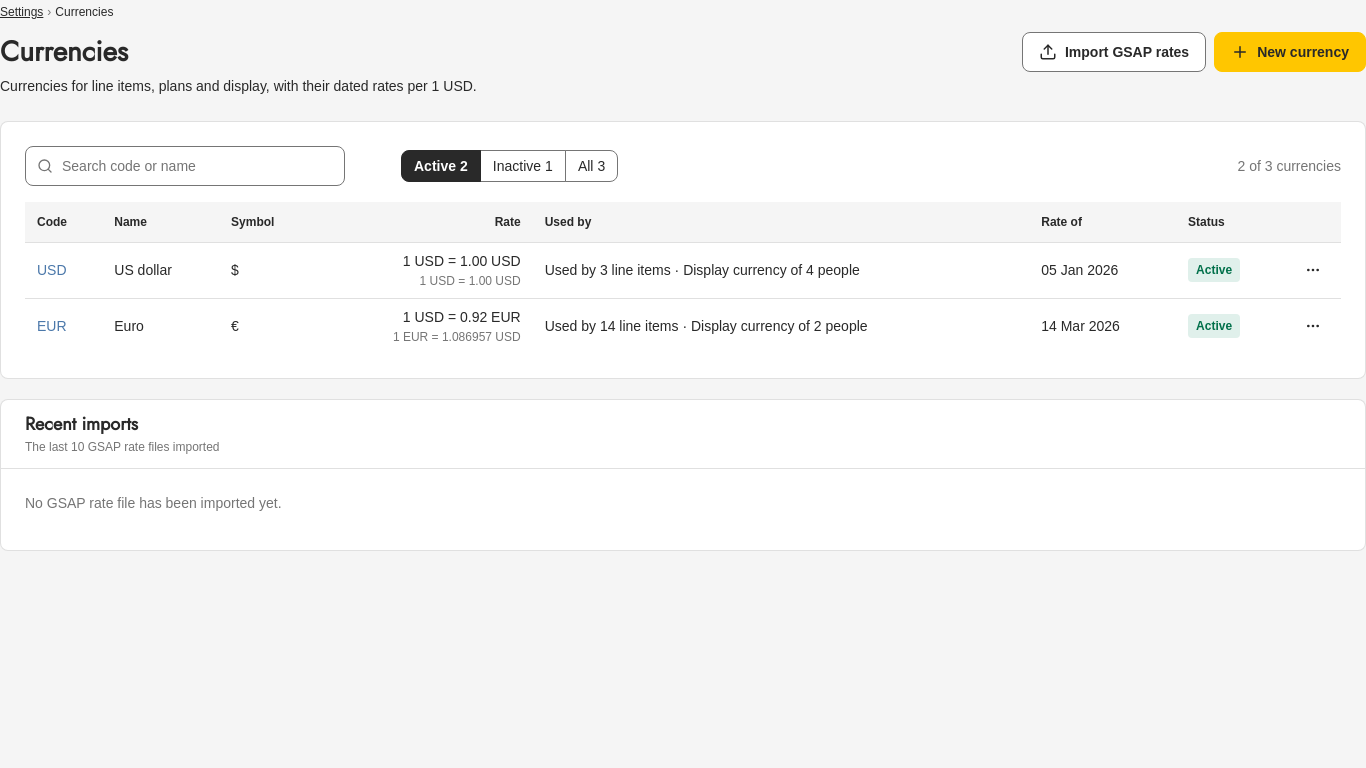
CurrenciesPage: create and edit (US4 scenarios 1, 3, 4, 5) › keeps the typed values after a conflict and names who saved first (FR-007)
Click the button named "Actions for EUR". click: click(1313, 326)
box: top-left (1297, 310), bottom-right (1329, 342)
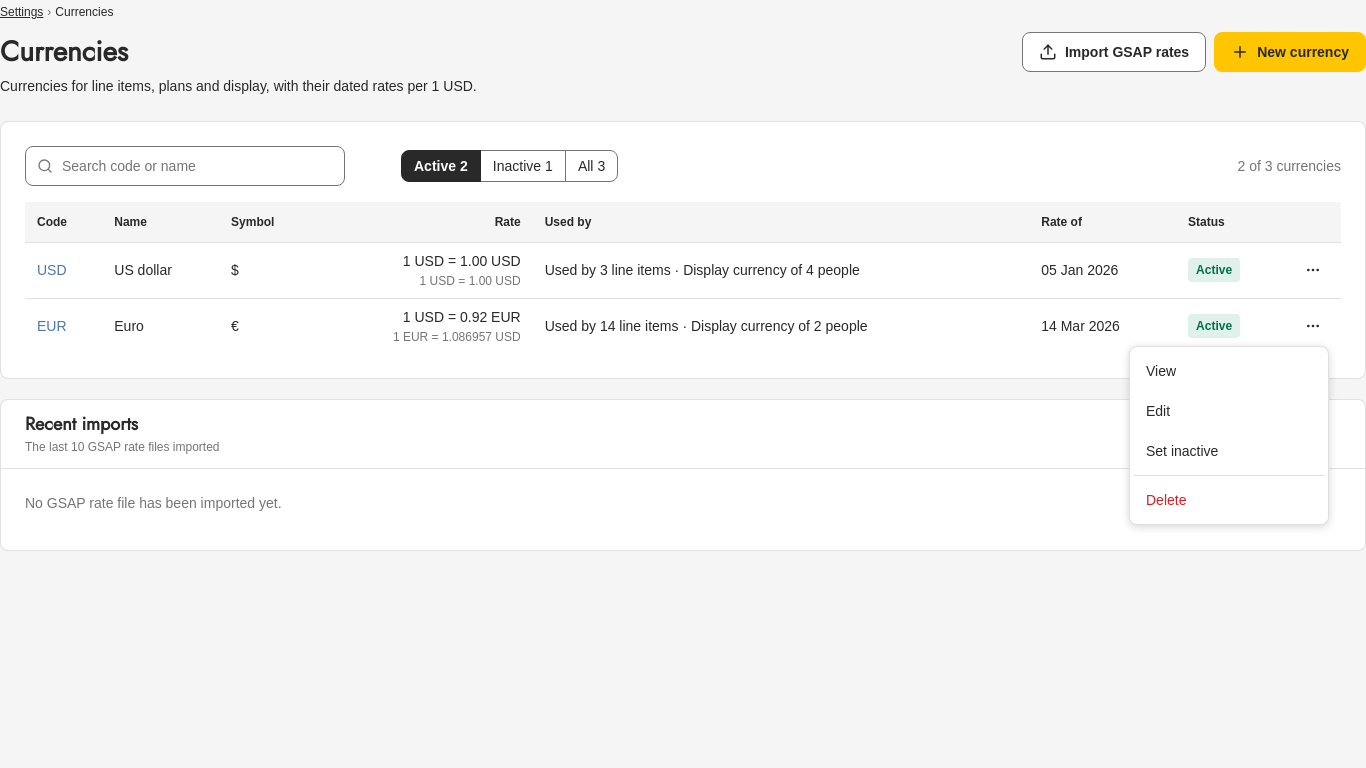
Click the menu item "Edit". click: click(1158, 411)
box: top-left (1146, 403), bottom-right (1170, 419)
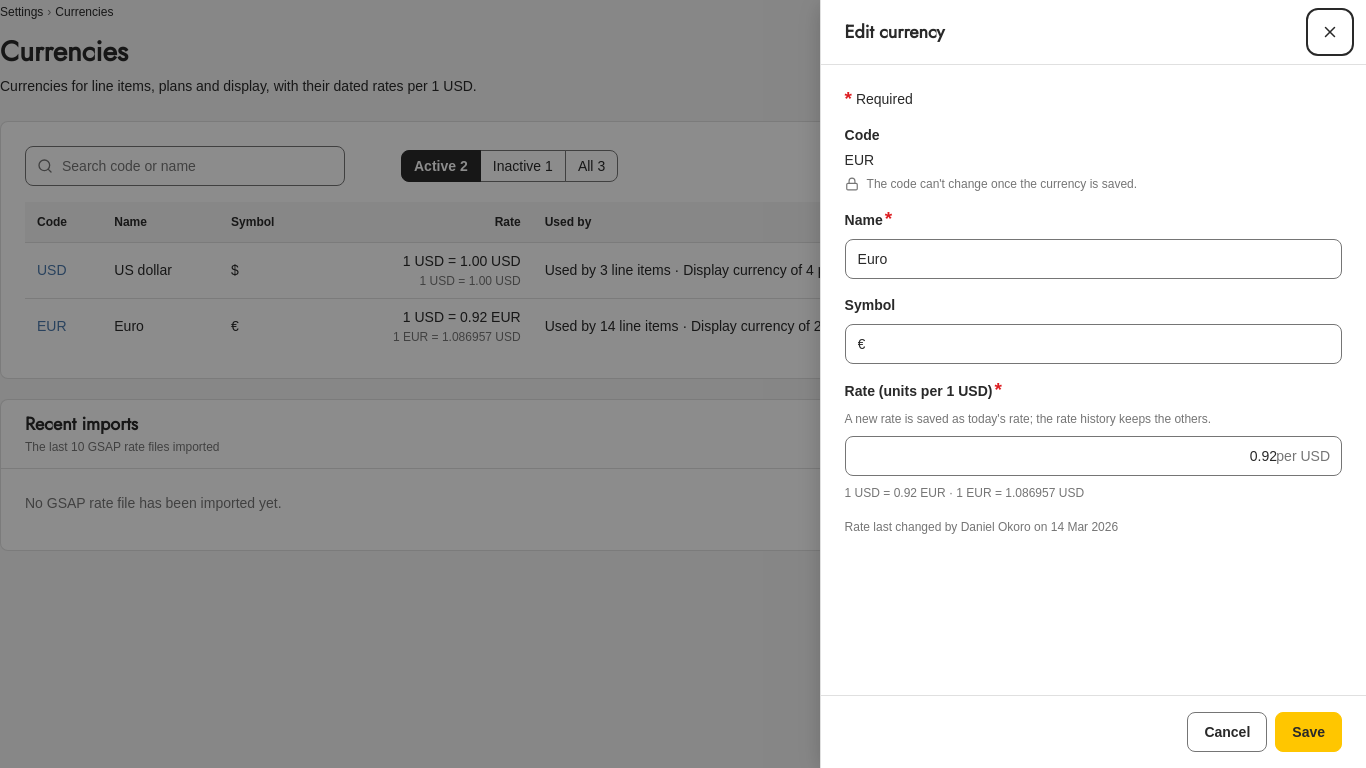
Type "!" into the field labelled "Symbol". click: (1093, 344)
box: top-left (845, 324), bottom-right (1342, 364)
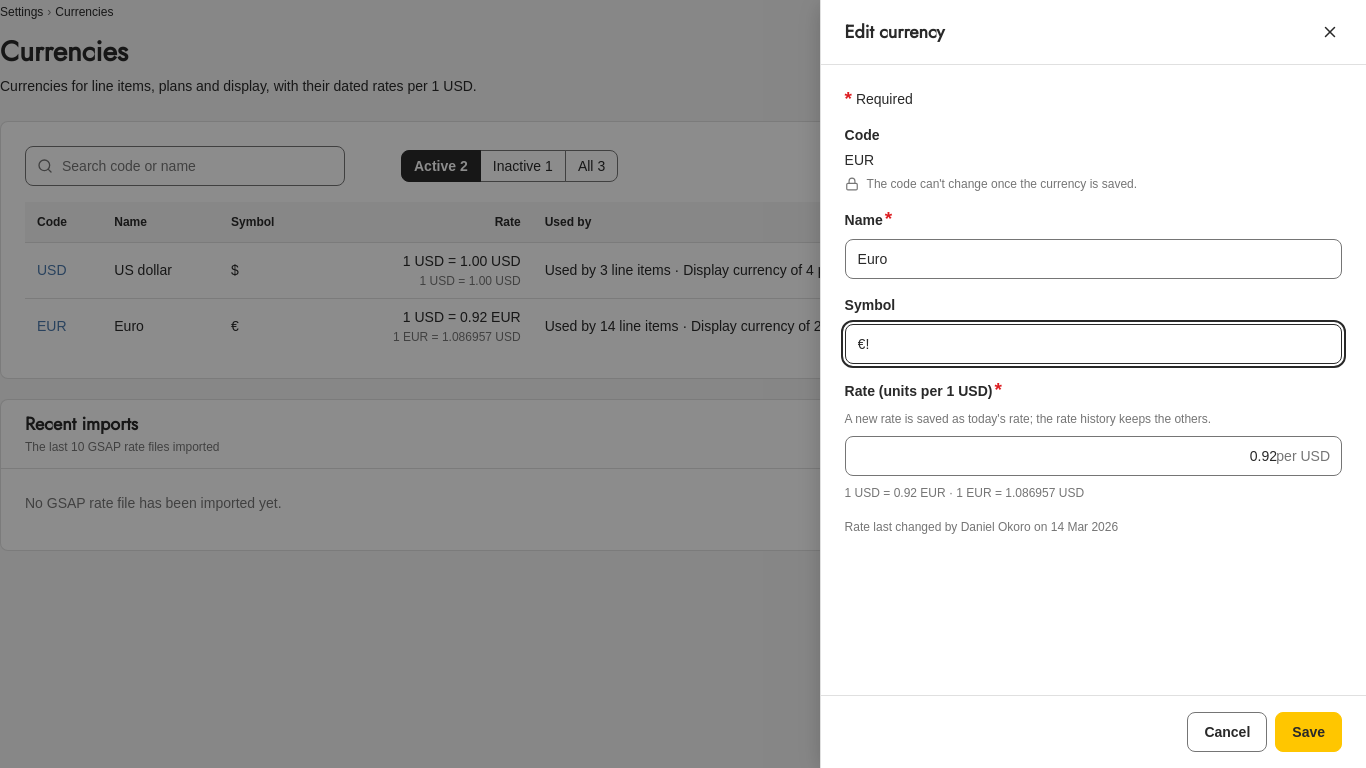
Click the button "Save". click: click(1309, 732)
box: top-left (1275, 712), bottom-right (1342, 752)
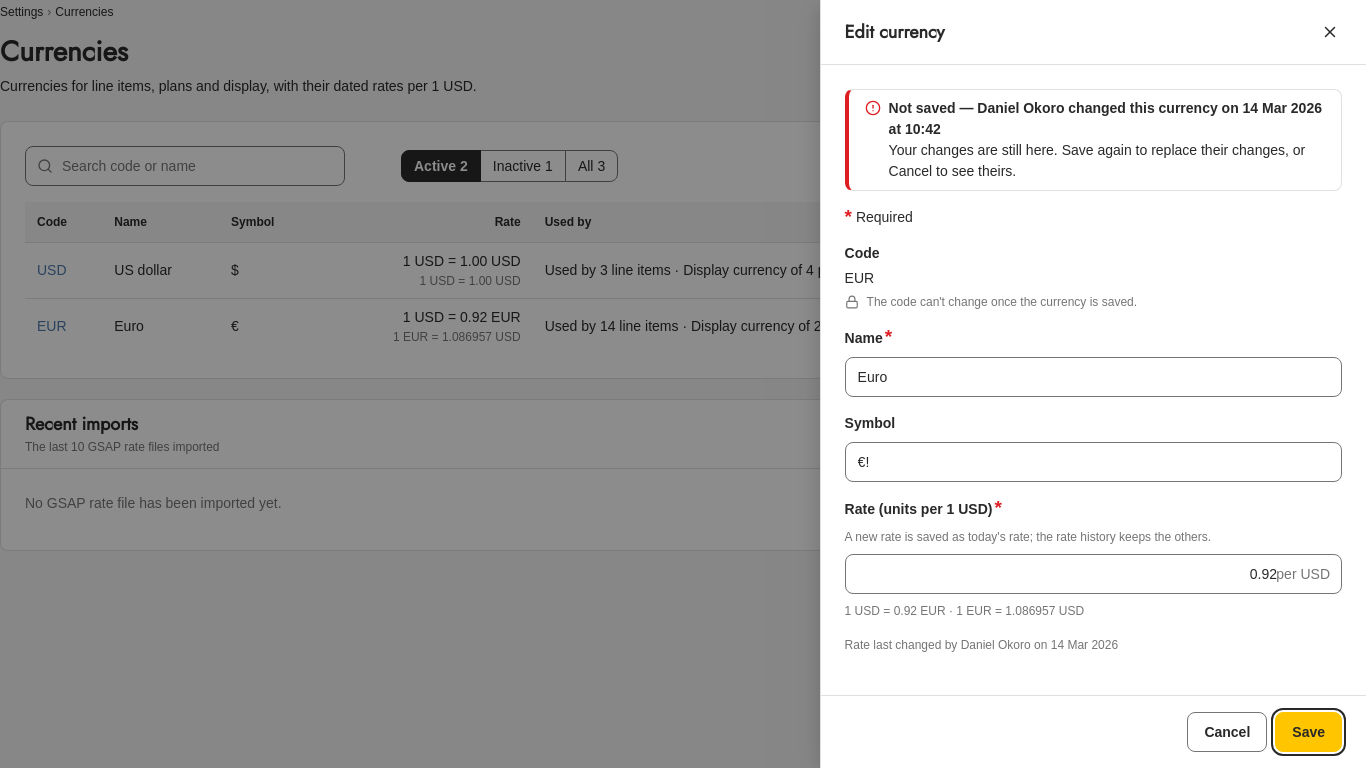
expect the field labelled "Symbol" holds "€!": met, box top-left (845, 442), bottom-right (1342, 482)
expect the message shows "Not saved — Daniel Okoro changed this currency on 14 Mar 2026 at 10:42": met, box top-left (889, 100), bottom-right (1322, 137)
